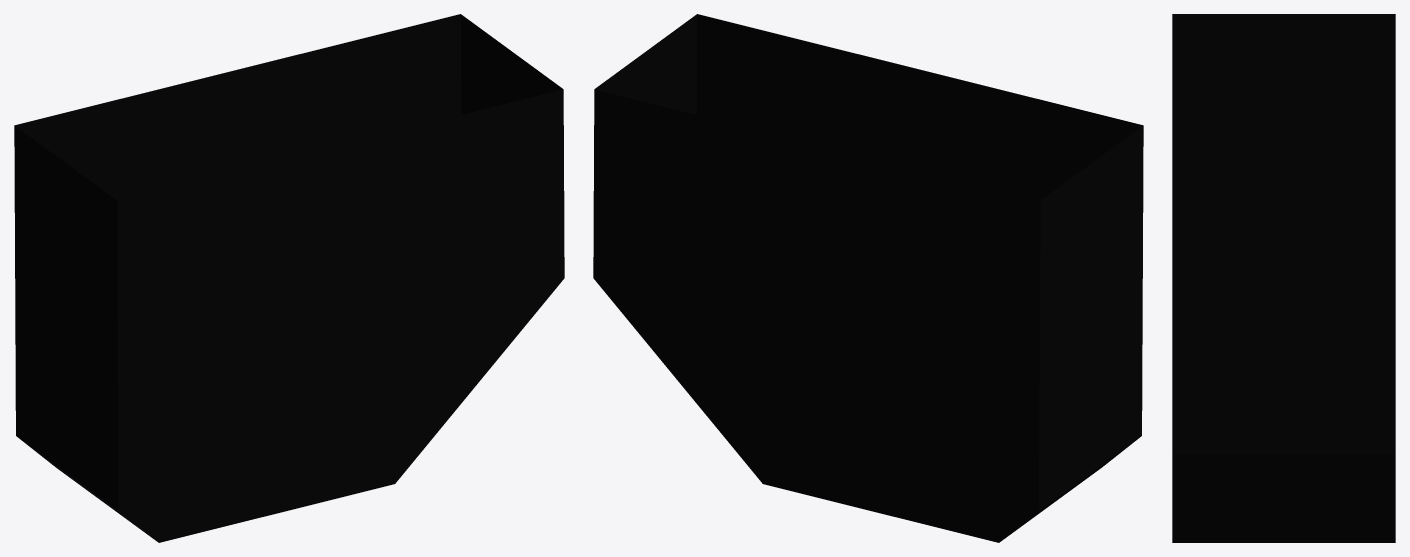
The model's file is trapdoor_handle_part.obj.
3 renders of one model, left to right at view 1: azimuth 30°, elevation 25°; view 2: azimuth 150°, elevation 25°; view 3: azimuth 270°, elevation 25°, orthographic. The views are drawn at different scales.
Parts seen in each view (by area): view 1: trapdoor_handle_part_Cube.053; view 2: trapdoor_handle_part_Cube.053; view 3: trapdoor_handle_part_Cube.053.
Boxes of the visible parts, left/top/right/bottom form: trapdoor_handle_part_Cube.053: left=14, top=14, right=564, bottom=542; trapdoor_handle_part_Cube.053: left=593, top=14, right=1143, bottom=542; trapdoor_handle_part_Cube.053: left=1172, top=14, right=1395, bottom=542.
Bounding box in the file's own units: 0.0855 × 0.0648 × 0.034.
Materials: 1 (1 with a texture image).
